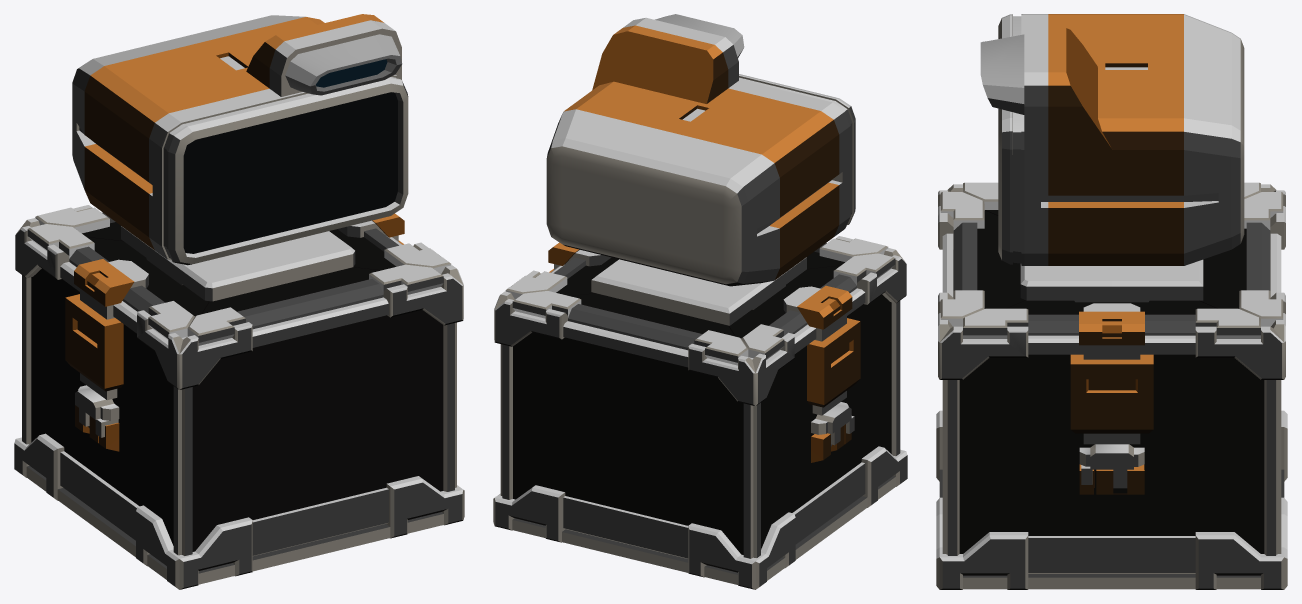
Rendered from Robot.dae.
3 renders of one model, left to right at view 1: azimuth 30°, elevation 25°; view 2: azimuth 150°, elevation 25°; view 3: azimuth 270°, elevation 25°, orthographic. The views are drawn at different scales.
Parts seen in each view (by area): view 1: Vemoji_Head_Mesh, SidePanelY_Mesh, SidePanelY_Mesh_4, Boxy_Body_Mesh, SidePanelX_Mesh, Boxy_RArm_Mesh, BoxTop_Mesh, BottomMesh, SidePanelX_Mesh_4, BoxTop_Mesh_4, LLowHingePosY_Mesh, RLowHingePosX_Mesh (+16 smaller); view 2: Vemoji_Head_Mesh, SidePanelY_Mesh_3, SidePanelY_Mesh_4, Boxy_Body_Mesh, SidePanelX_Mesh_3, Boxy_RArm_Mesh, BoxTop_Mesh_3, BottomMesh, SidePanelX_Mesh_4, BoxTop_Mesh_4, RLowHingePosX_Mesh_3, LLowHingePosY_Mesh_3 (+16 smaller); view 3: Vemoji_Head_Mesh, SidePanelY_Mesh_2, Boxy_LArmMesh, SidePanelX_Mesh_2, Boxy_Body_Mesh, BoxTop_Mesh, BottomMesh, BoxTop_Mesh_2, BoxTop_Mesh_3, LLowHingePosY_Mesh_2, RLowHingePosX_Mesh_2, LFHingePosX_Mesh_2 (+18 smaller).
Boxes of the visible parts, x1,y1,x2,y2 form: Vemoji_Head_Mesh: (72, 14, 408, 265); SidePanelY_Mesh: (182, 310, 454, 555); SidePanelY_Mesh_4: (22, 268, 181, 555); Boxy_Body_Mesh: (121, 226, 355, 301); SidePanelX_Mesh: (252, 297, 388, 556); Boxy_RArm_Mesh: (65, 259, 148, 400); BoxTop_Mesh: (202, 267, 383, 329); BottomMesh: (26, 466, 443, 584); SidePanelX_Mesh_4: (60, 262, 139, 540); BoxTop_Mesh_4: (69, 237, 209, 316); LLowHingePosY_Mesh: (179, 517, 252, 589); RLowHingePosX_Mesh: (386, 476, 463, 538); Vemoji_Head_Mesh: (546, 14, 855, 286); SidePanelY_Mesh_3: (502, 332, 753, 558); SidePanelY_Mesh_4: (753, 294, 900, 557); Boxy_Body_Mesh: (591, 257, 806, 325); SidePanelX_Mesh_3: (563, 321, 688, 558); Boxy_RArm_Mesh: (783, 285, 860, 415); BoxTop_Mesh_3: (568, 293, 734, 350); BottomMesh: (512, 476, 895, 584); SidePanelX_Mesh_4: (792, 288, 865, 544); BoxTop_Mesh_4: (728, 265, 856, 338); RLowHingePosX_Mesh_3: (688, 523, 755, 589); LLowHingePosY_Mesh_3: (494, 485, 565, 542); Vemoji_Head_Mesh: (980, 14, 1244, 265); SidePanelY_Mesh_2: (947, 354, 1276, 555); Boxy_LArmMesh: (1070, 303, 1153, 444); SidePanelX_Mesh_2: (1028, 335, 1195, 573); Boxy_Body_Mesh: (1020, 259, 1203, 302); BoxTop_Mesh: (953, 210, 1025, 308); BottomMesh: (939, 469, 1284, 589); BoxTop_Mesh_2: (1007, 300, 1216, 335); BoxTop_Mesh_3: (1199, 222, 1270, 308); LLowHingePosY_Mesh_2: (939, 532, 1028, 589); RLowHingePosX_Mesh_2: (1195, 532, 1284, 589); LFHingePosX_Mesh_2: (939, 326, 1028, 379).
Bounding box in the file's own units: 1.26 × 1.86 × 1.18.
